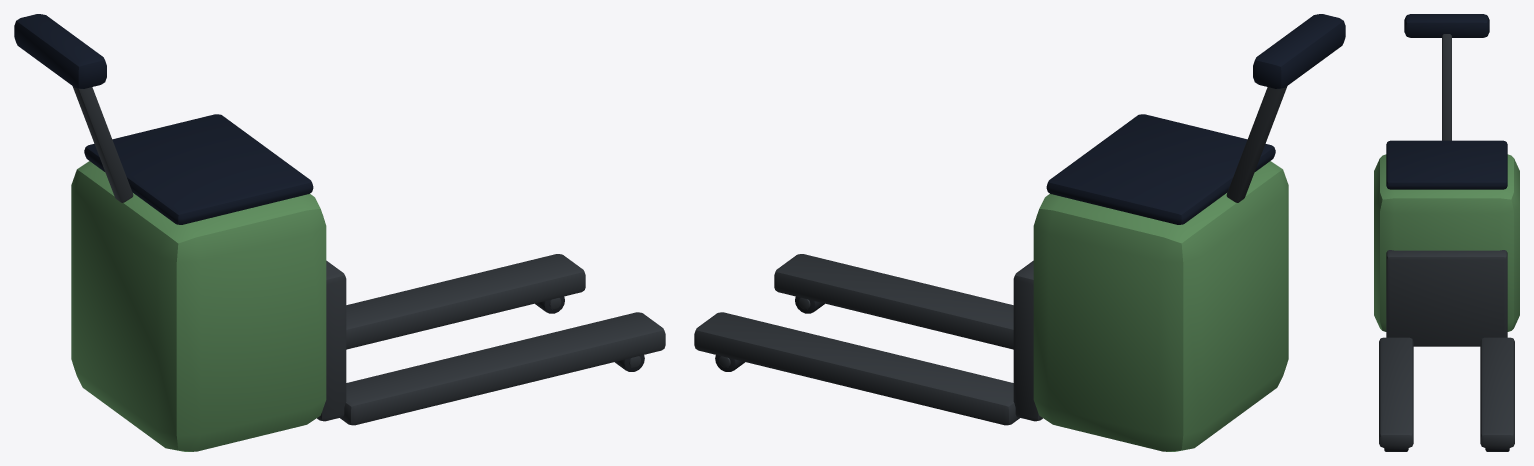
Rendered from ptruck.glb.
The picture shows the model from 3 angles, left to right: view 1: azimuth 30°, elevation 25°; view 2: azimuth 150°, elevation 25°; view 3: azimuth 270°, elevation 25°; orthographic projection. The views are drawn at different scales.
Visible parts, largest first — view 1: body; view 2: body; view 3: body.
Part boxes in pixels (x1,y1,x2,y2): body: (14, 14, 665, 451); body: (694, 14, 1345, 451); body: (1374, 14, 1519, 451).
Bounding box in the file's own units: 2.06 × 1.48 × 0.72.
